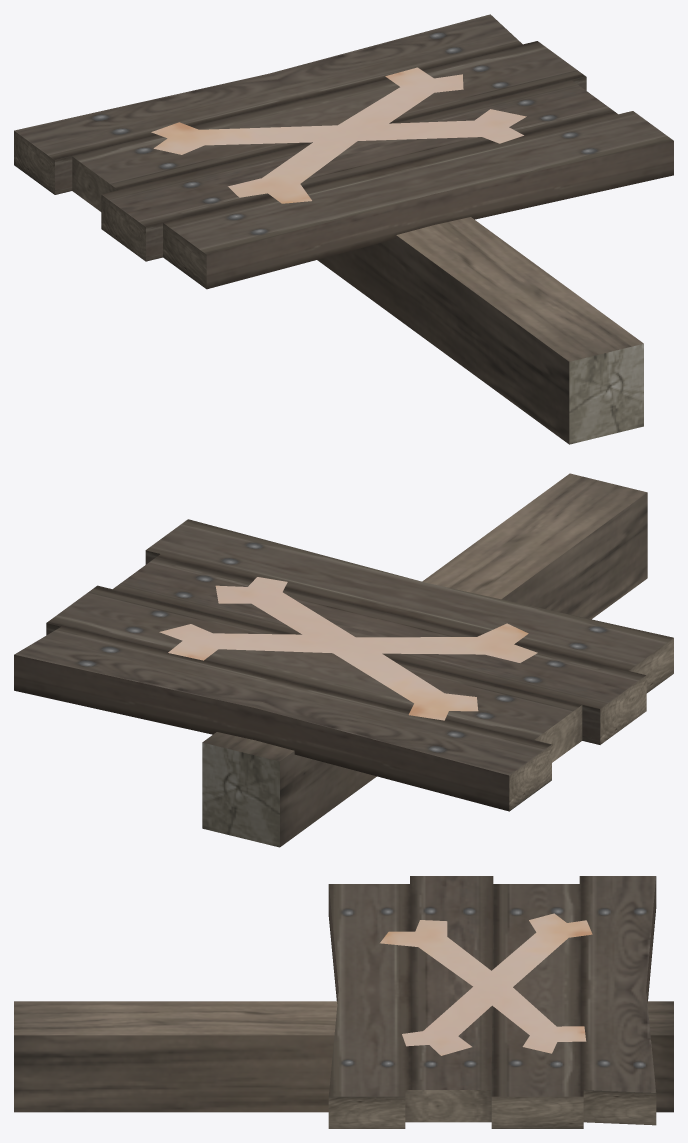
The model's file is Board_B.fbx.
3 views of the same model, one above another, from view 1: azimuth 30°, elevation 25°; view 2: azimuth 150°, elevation 25°; view 3: azimuth 270°, elevation 25° (orthographic). The views are drawn at different scales.
Visible parts, largest first — view 1: Board_B; view 2: Board_B; view 3: Board_B.
Part boxes in pixels (x1,y1,x2,y2): Board_B: (14, 14, 673, 444); Board_B: (14, 473, 673, 847); Board_B: (14, 876, 673, 1128).
Size of the model in its own units: 1.29 by 0.2934 by 1.63.
